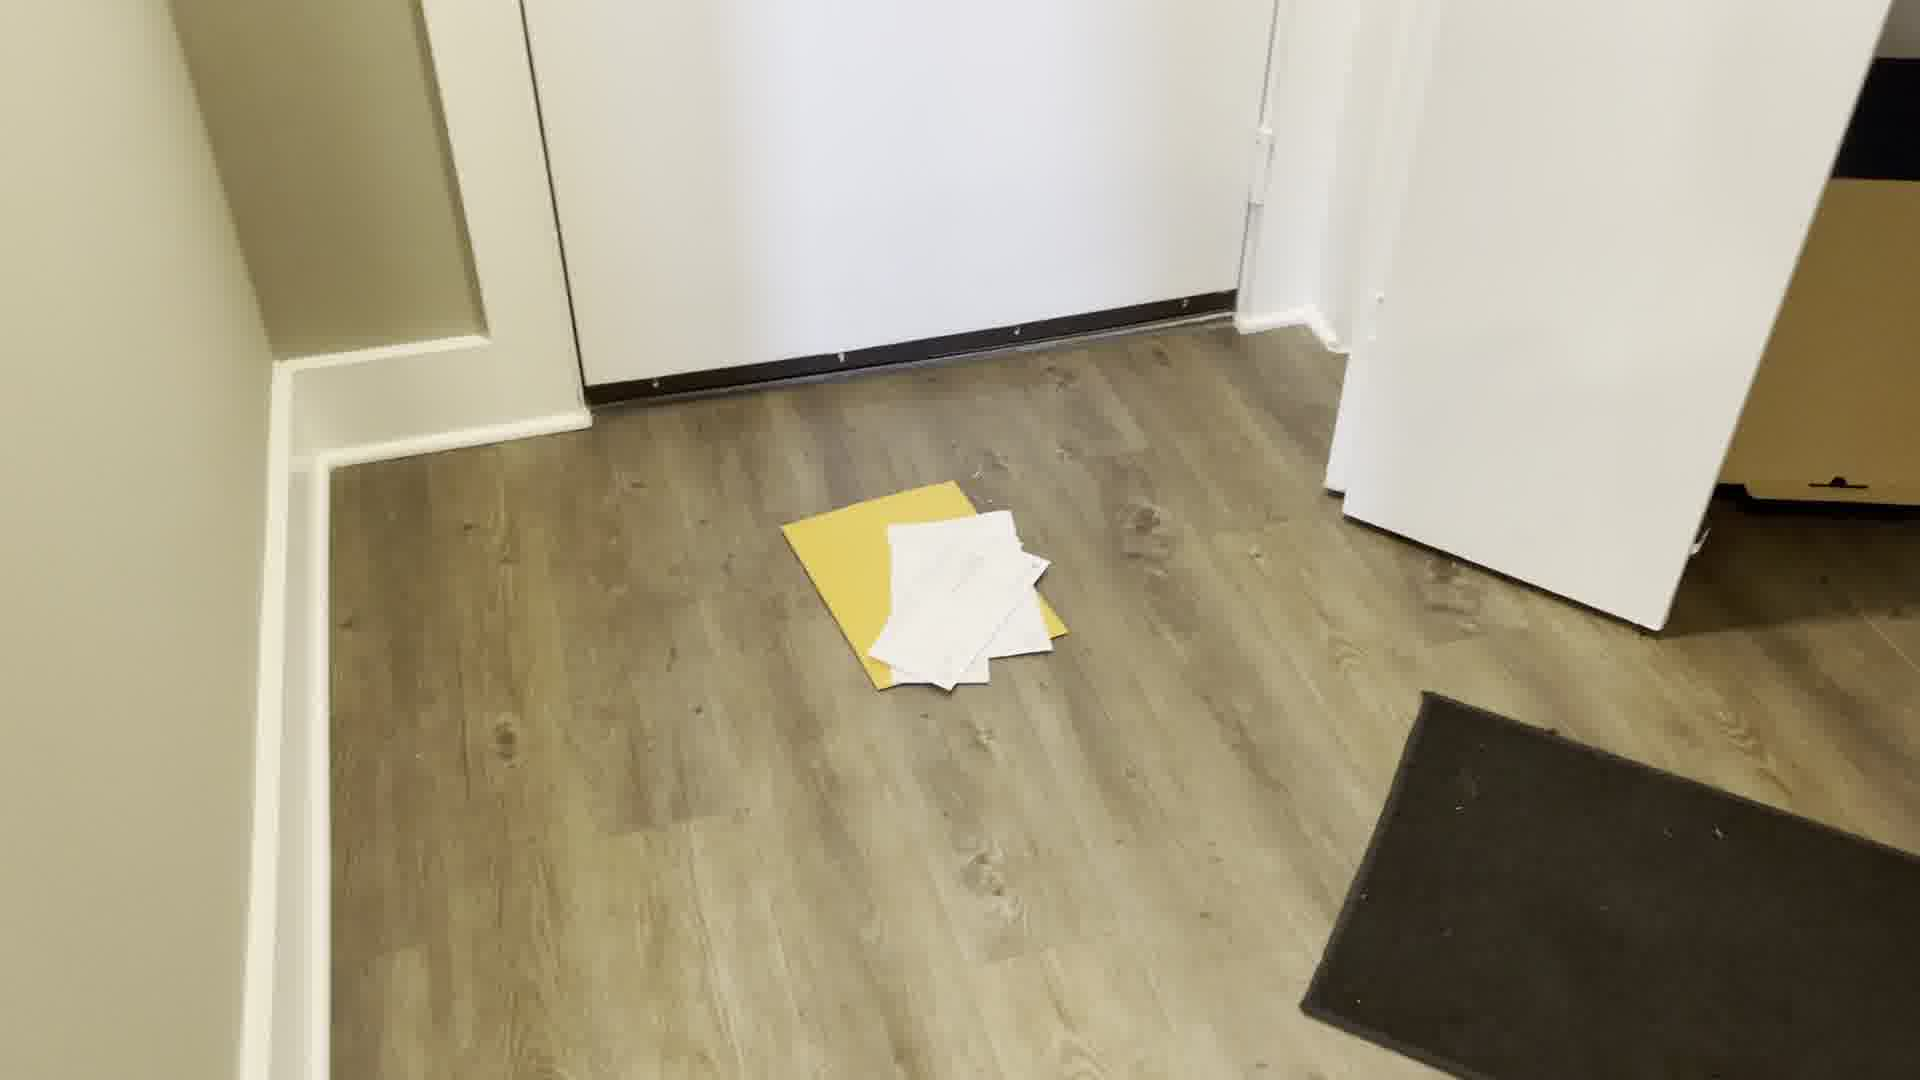envelope: (775, 465, 1076, 708)
